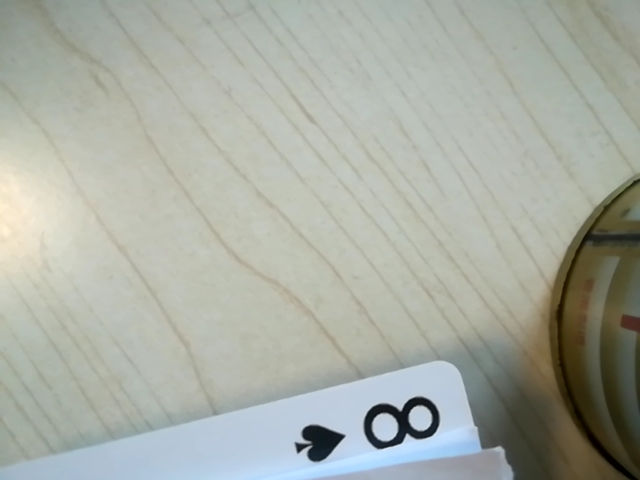ht 8: (291, 383, 469, 470)
